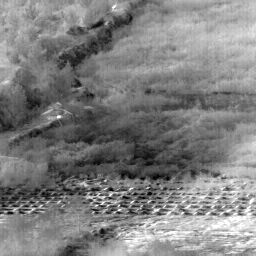aircraft: (58, 116, 60, 118)
